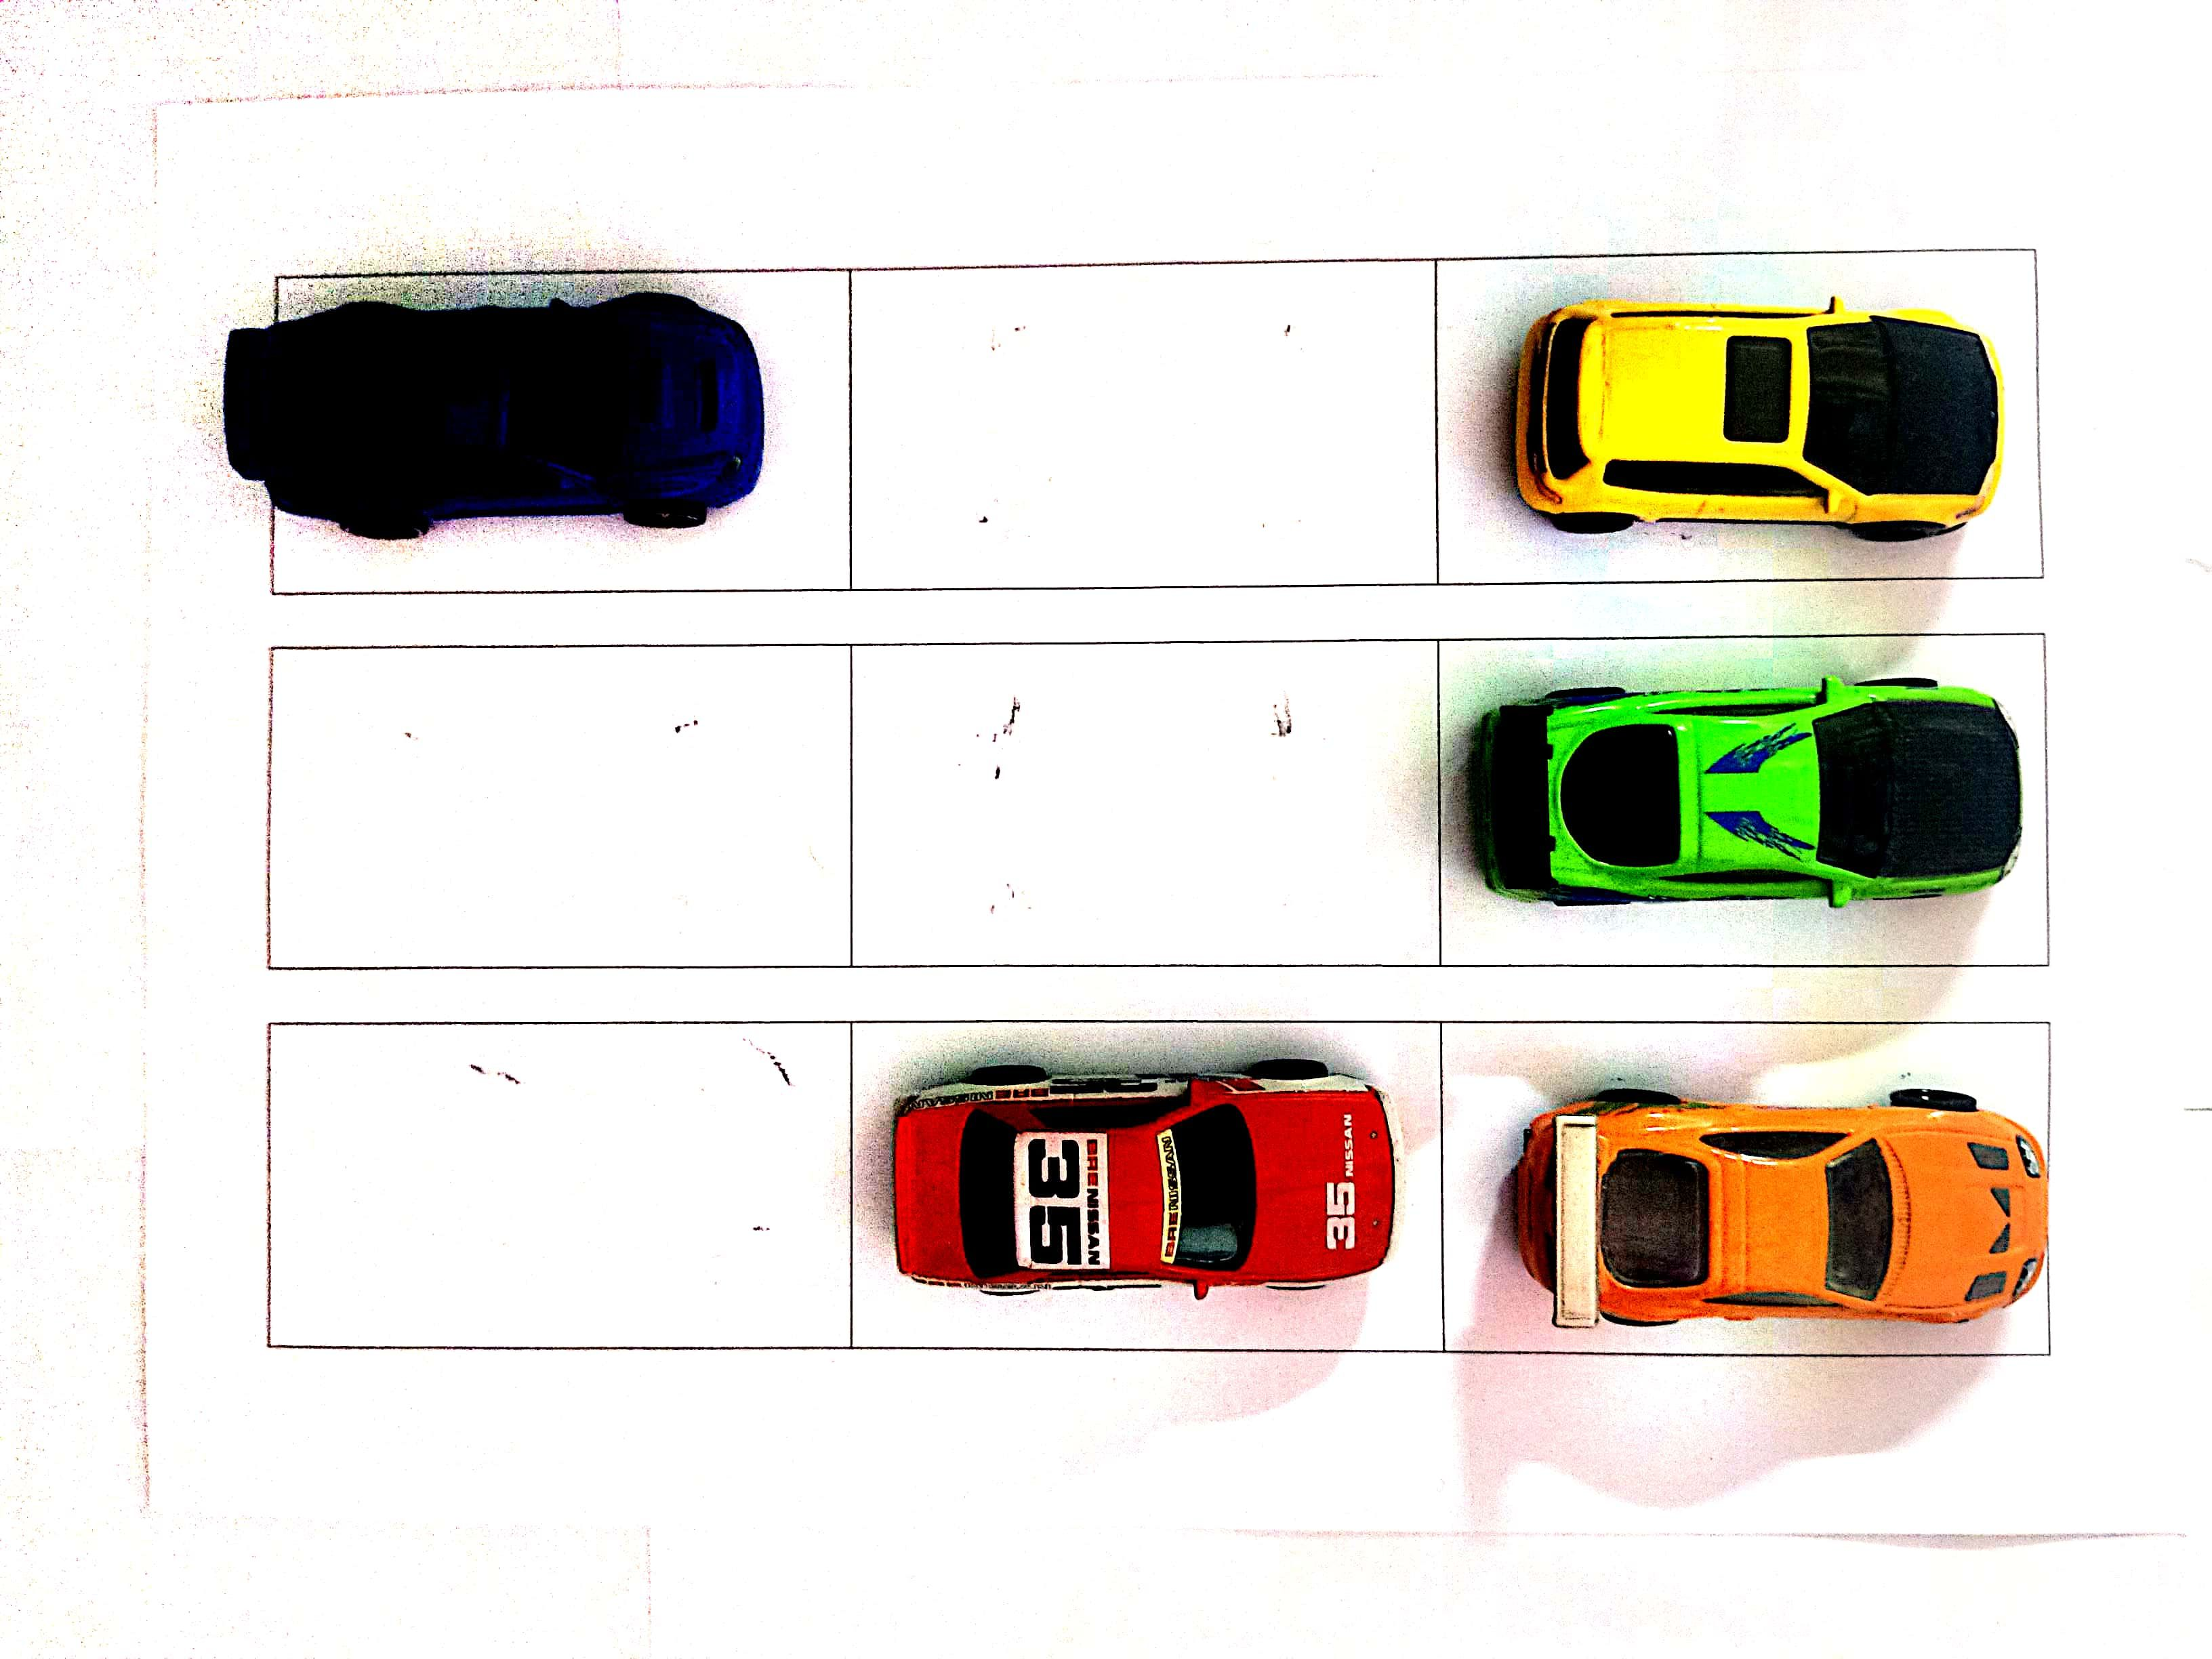Busy: (1433, 640, 2038, 967), (1454, 1026, 2045, 1351), (1442, 254, 2034, 575), (845, 1026, 1446, 1342), (268, 272, 848, 598)
Free: (853, 641, 1440, 962), (848, 263, 1433, 580), (270, 650, 853, 967), (273, 1026, 845, 1342)
